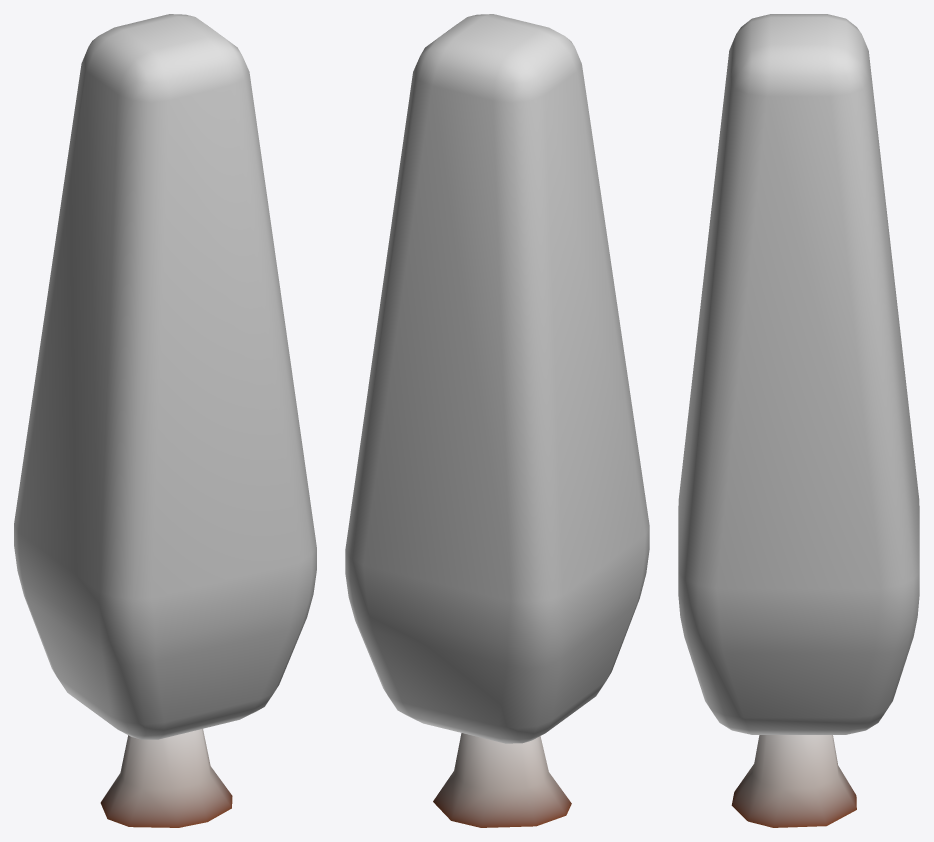
The model's file is NF_Veg_Tree_09.fbx.
The picture shows the model from 3 angles, left to right: view 1: azimuth 30°, elevation 25°; view 2: azimuth 150°, elevation 25°; view 3: azimuth 270°, elevation 25°; orthographic projection.
Visible parts, largest first — view 1: Tree_09; view 2: Tree_09; view 3: Tree_09.
Boxes of the visible parts, x1=… form: Tree_09: x1=14, y1=14, x2=316, y2=827; Tree_09: x1=345, y1=14, x2=649, y2=827; Tree_09: x1=678, y1=14, x2=919, y2=827.
Size of the model in its own units: 1.62 by 5.58 by 1.59.
